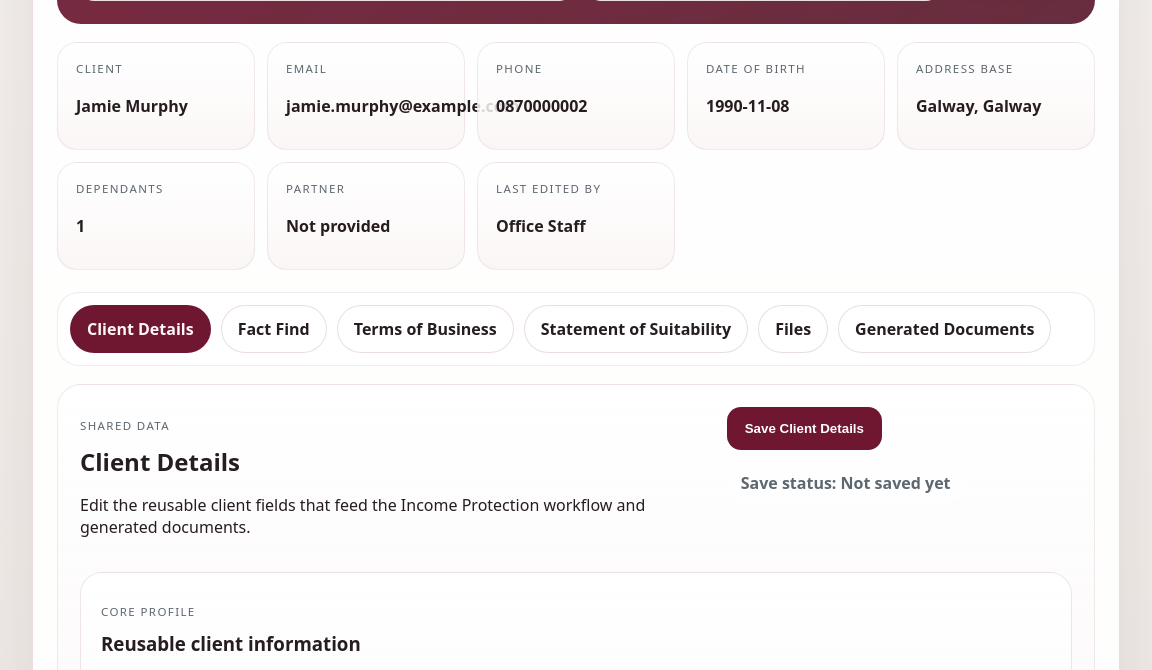
Test case: App routes › renders the Terms of Business draft fields and issue actions
The width and height of the screenshot is (1152, 670).
(page scrolled)
Click the tab "Terms of Business": (425, 329) [337,305,514,353]
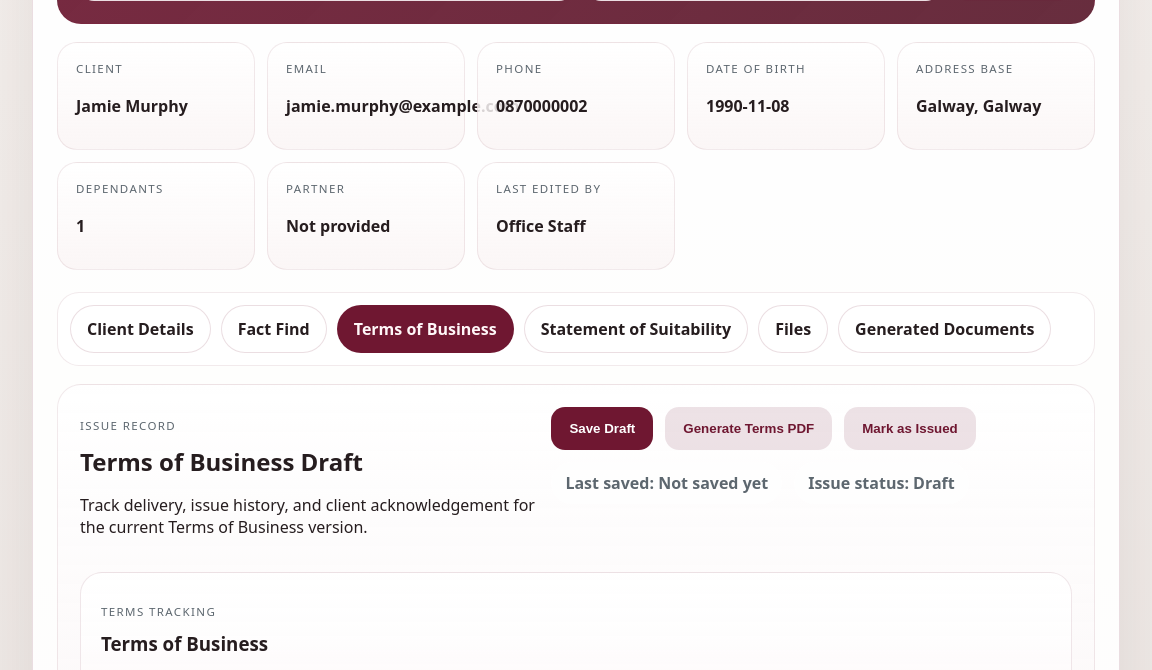
Expected: the heading "Terms of Business Draft" is shown, [80,445,363,478]
Expected: the button "Generate Terms PDF" is shown, [665,407,832,450]
Expected: the button "Mark as Issued" is shown, [844,407,976,450]
